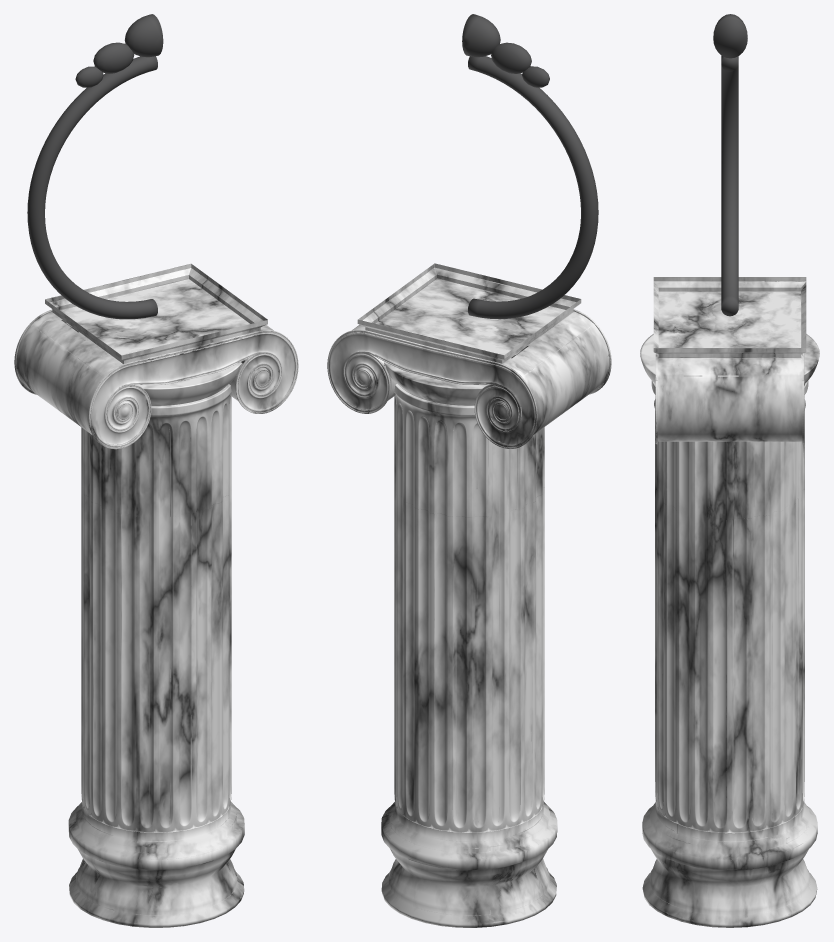
File: PILLAR RIGHT NEW.fbx
3 renders of one model, left to right at view 1: azimuth 30°, elevation 25°; view 2: azimuth 150°, elevation 25°; view 3: azimuth 270°, elevation 25°, orthographic.
Parts seen in each view (by area): view 1: Collection 1|PillarRight|Dupli|, Collection 1|RingRight|Dupli|1; view 2: Collection 1|PillarRight|Dupli|, Collection 1|RingRight|Dupli|1; view 3: Collection 1|PillarRight|Dupli|, Collection 1|RingRight|Dupli|1.
Part boxes in pixels (x1,y1,x2,y2): Collection 1|PillarRight|Dupli|: [14, 263, 298, 927]; Collection 1|RingRight|Dupli|1: [27, 14, 163, 319]; Collection 1|PillarRight|Dupli|: [327, 263, 611, 927]; Collection 1|RingRight|Dupli|1: [462, 14, 598, 319]; Collection 1|PillarRight|Dupli|: [640, 277, 819, 927]; Collection 1|RingRight|Dupli|1: [713, 14, 747, 316].
Bounding box in the file's own units: 198 × 133 × 713.
2 materials, 1 textured.
